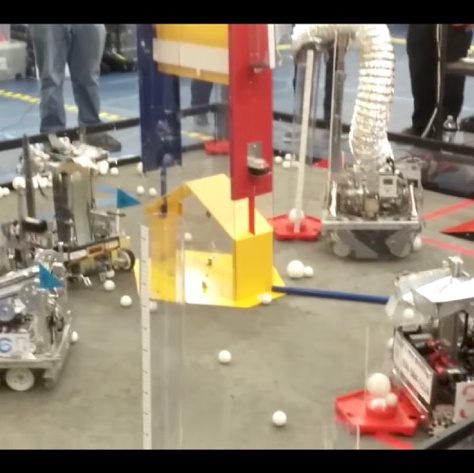robot: (311, 21, 428, 260), (10, 127, 134, 283), (388, 254, 474, 443), (0, 240, 76, 395)
